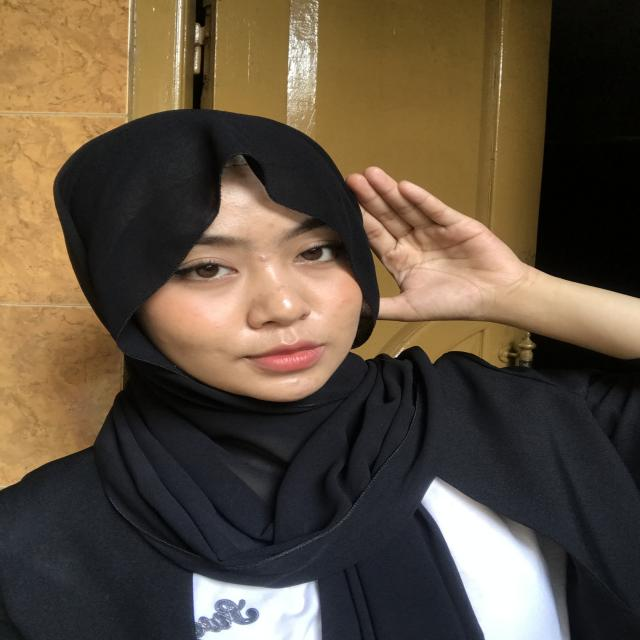mendengar: (323, 168, 532, 338)
